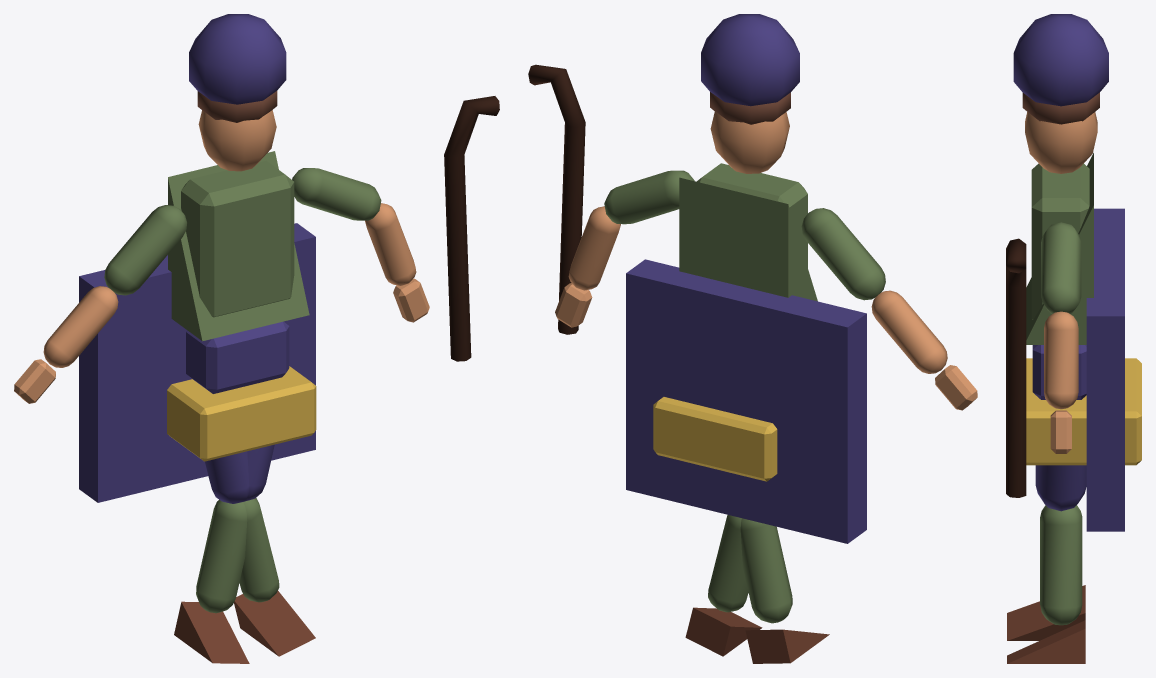
The model's file is adventurer.rustic.glb.
The picture shows the model from 3 angles, left to right: view 1: azimuth 30°, elevation 25°; view 2: azimuth 150°, elevation 25°; view 3: azimuth 270°, elevation 25°; orthographic projection.
Visible parts, largest first — view 1: accessory.back, torso, accessory.waist, accessory.head, tunic, accessory.main-hand, pelvis, shin.right, upper-arm.left, head, upper-arm.right, forearm.left (+9 smaller); view 2: accessory.back, tunic, accessory.head, accessory.waist, accessory.main-hand, upper-arm.left, shin.right, head, forearm.left, upper-arm.right, torso, shin.left (+6 smaller); view 3: accessory.back, accessory.head, accessory.main-hand, accessory.waist, shin.left, torso, upper-arm.right, head, forearm.right, tunic, foot.left, thigh.right (+4 smaller).
Part boxes in pixels (bbox=[...]): accessory.back: bbox=[79, 223, 315, 502]; torso: bbox=[181, 160, 294, 317]; accessory.waist: bbox=[167, 366, 316, 461]; accessory.head: bbox=[189, 14, 286, 104]; tunic: bbox=[168, 151, 309, 341]; accessory.main-hand: bbox=[444, 96, 499, 361]; pelvis: bbox=[186, 321, 289, 393]; shin.right: bbox=[196, 499, 247, 613]; upper-arm.left: bbox=[104, 205, 186, 295]; head: bbox=[198, 110, 276, 171]; upper-arm.right: bbox=[292, 168, 381, 220]; forearm.left: bbox=[43, 286, 118, 367]; accessory.back: bbox=[626, 259, 866, 543]; tunic: bbox=[679, 177, 817, 301]; accessory.head: bbox=[701, 14, 799, 106]; accessory.waist: bbox=[653, 397, 777, 481]; accessory.main-hand: bbox=[528, 64, 585, 334]; upper-arm.left: bbox=[801, 208, 885, 300]; shin.right: bbox=[740, 518, 792, 623]; head: bbox=[710, 111, 789, 173]; forearm.left: bbox=[871, 290, 947, 373]; upper-arm.right: bbox=[604, 170, 694, 224]; torso: bbox=[697, 163, 807, 267]; shin.left: bbox=[708, 515, 748, 612]; accessory.back: bbox=[1086, 208, 1124, 531]; accessory.head: bbox=[1013, 14, 1108, 106]; accessory.main-hand: bbox=[1006, 238, 1026, 497]; accessory.waist: bbox=[1026, 358, 1141, 465]; shin.left: bbox=[1040, 506, 1082, 625]; torso: bbox=[1031, 163, 1089, 319]; upper-arm.right: bbox=[1041, 222, 1081, 313]; head: bbox=[1025, 112, 1097, 173]; forearm.right: bbox=[1044, 311, 1078, 409]; tunic: bbox=[1026, 152, 1093, 344]; foot.left: bbox=[1007, 620, 1085, 663]; thigh.right: bbox=[1035, 465, 1086, 511].
Bounding box in the file's own units: 2.52 × 3.28 × 0.64.
